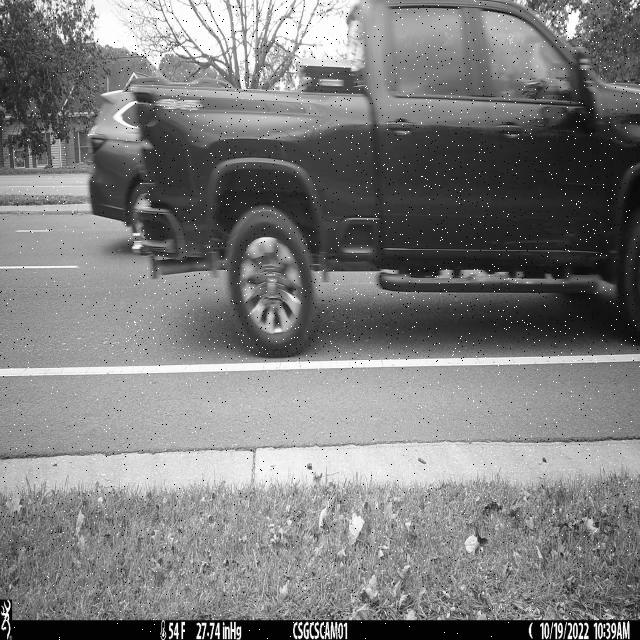Pickup: (126, 0, 640, 361)
